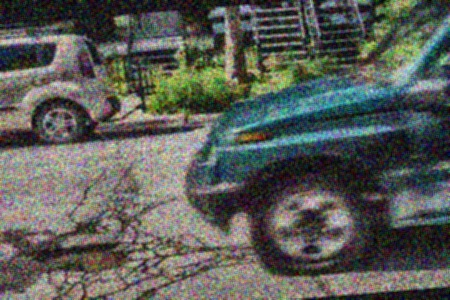pothole: (30, 239, 130, 276)
